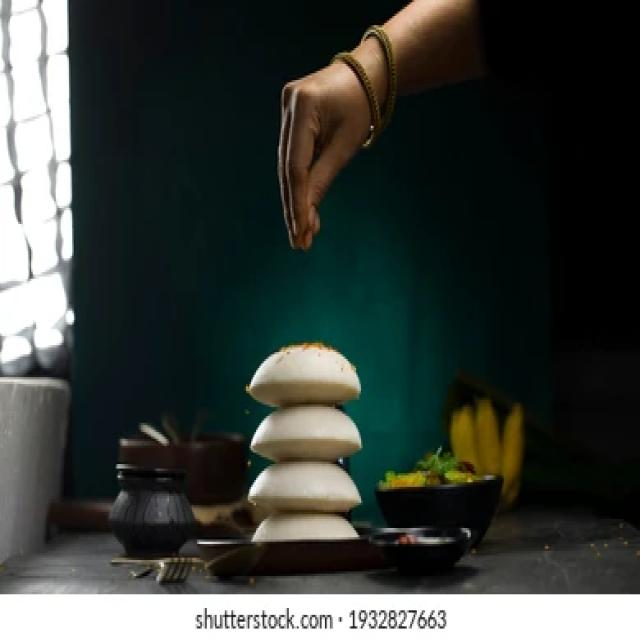IDLI: (247, 342, 366, 539)
